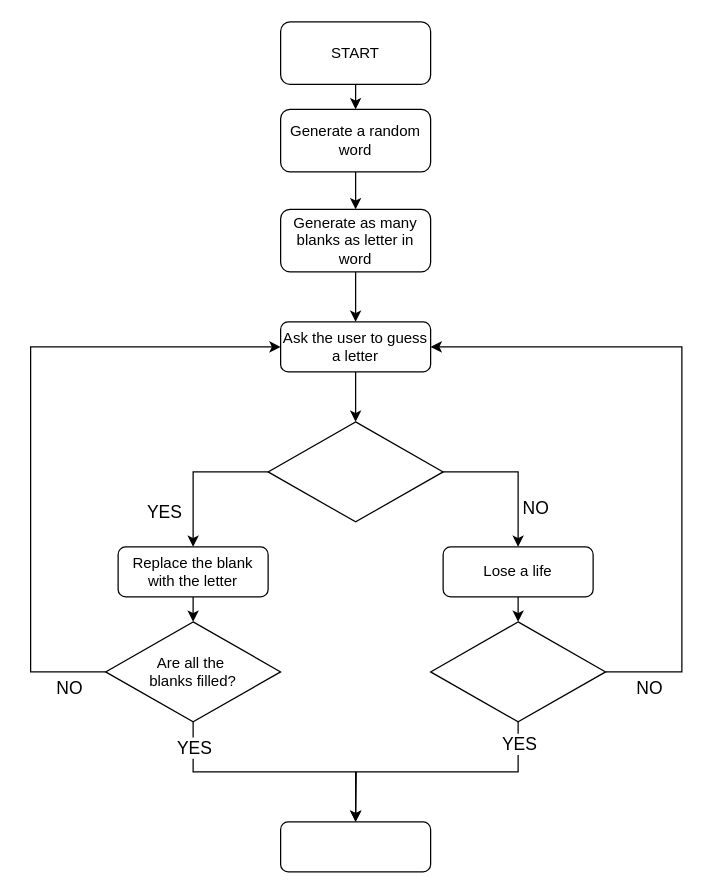
This 714x894 diagram has some shape labels left out. Here are the shapes that lost their labels. From the top down, the centre of each, then its label:
At (355,471): "Is the guessed letter in the word?".
At (517,671): "Have they run out of lives?".
At (355,846): "GAME OVER".
